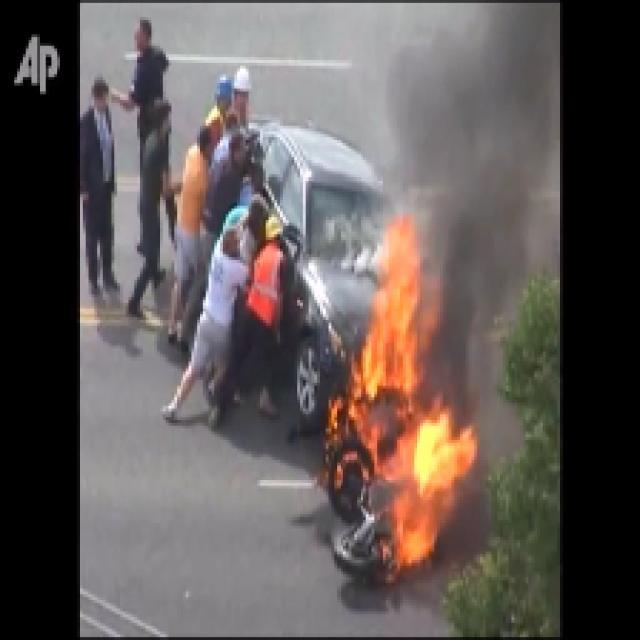Fire: (358, 313, 471, 565)
Smoke: (418, 44, 550, 290)
